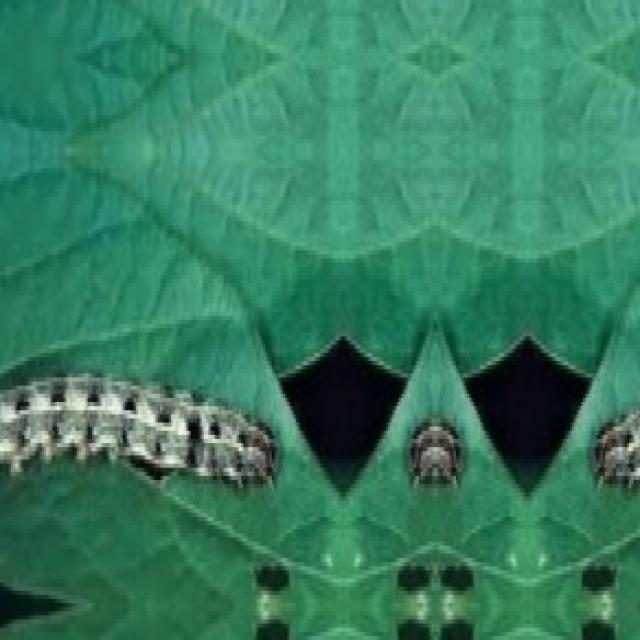armyworm: (0, 365, 276, 488)
